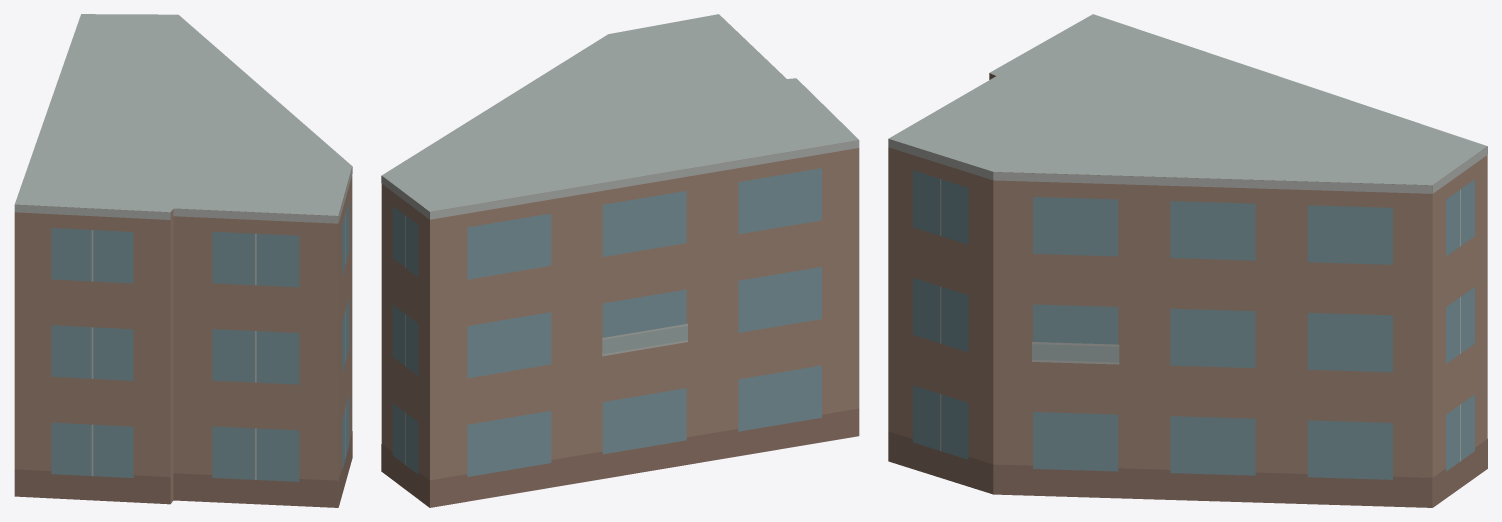
The model's file is survey-upis-32777489.glb.
3 views of the same model, side by side, from view 1: azimuth 30°, elevation 25°; view 2: azimuth 150°, elevation 25°; view 3: azimuth 270°, elevation 25° (orthographic). The views are drawn at different scales.
Parts seen in each view (by area): view 1: survey-upis-32777489.tmp; view 2: survey-upis-32777489.tmp; view 3: survey-upis-32777489.tmp.
Boxes of the visible parts, x1=… form: survey-upis-32777489.tmp: x1=14, y1=14, x2=352, y2=507; survey-upis-32777489.tmp: x1=381, y1=14, x2=859, y2=507; survey-upis-32777489.tmp: x1=888, y1=14, x2=1487, y2=507.
Size of the model in its own units: 10.43 by 9.15 by 15.42.
